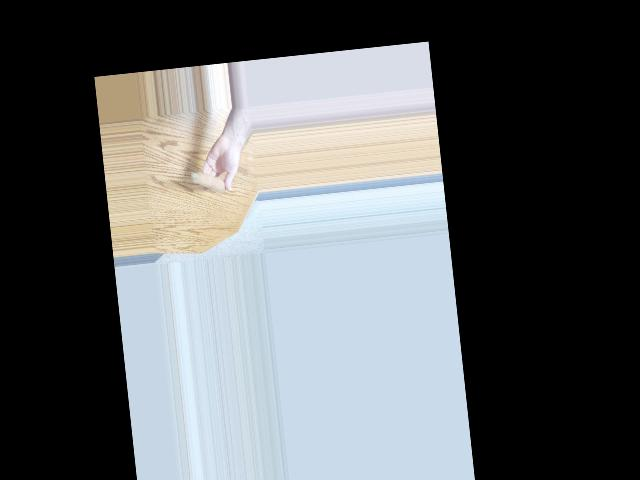sweet_potato: (190, 167, 228, 195)
